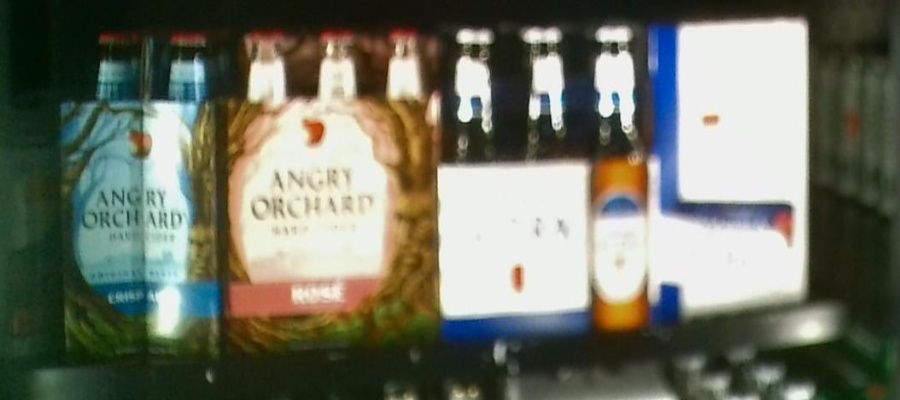bottle: (224, 29, 440, 344), (446, 30, 647, 320), (61, 29, 224, 360), (657, 23, 814, 308)
